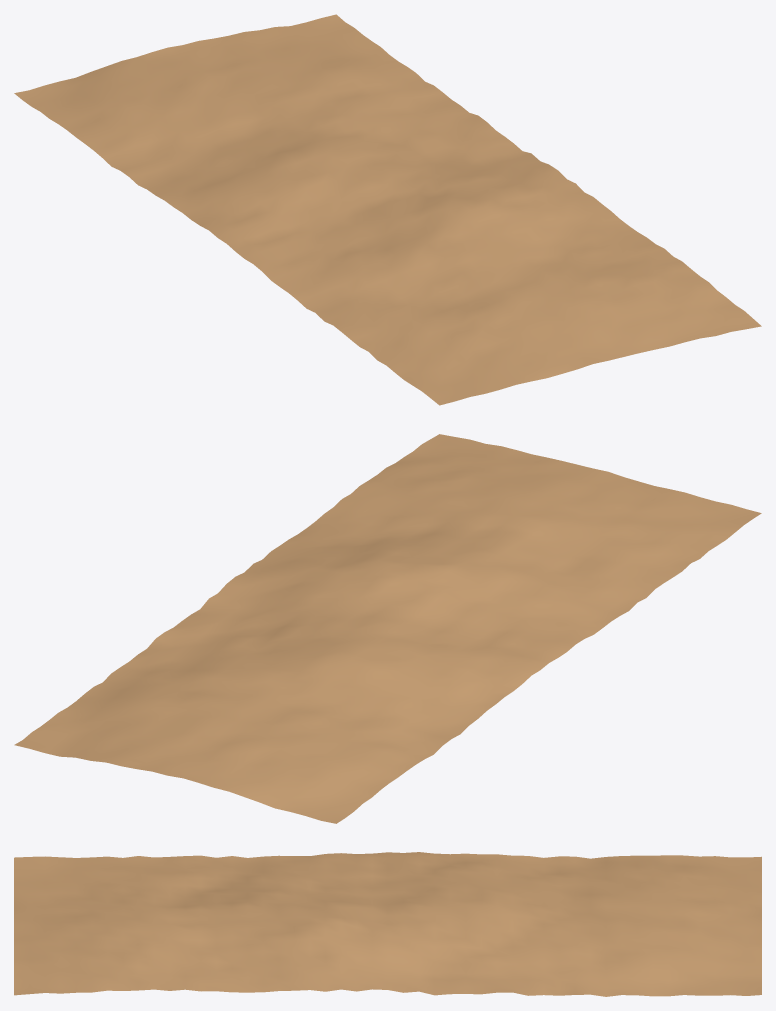
The model's file is Sand.fbx.
3 renders of one model, top to bottom at view 1: azimuth 30°, elevation 25°; view 2: azimuth 150°, elevation 25°; view 3: azimuth 270°, elevation 25°, orthographic. The views are drawn at different scales.
Parts seen in each view (by area): view 1: Sand; view 2: Sand; view 3: Sand.
Part boxes in pixels (box(x1,y1,x2,y2)): Sand: box(14, 14, 761, 405); Sand: box(14, 434, 761, 823); Sand: box(14, 852, 761, 996).
Bounding box in the file's own units: 220 × 15.95 × 502.
